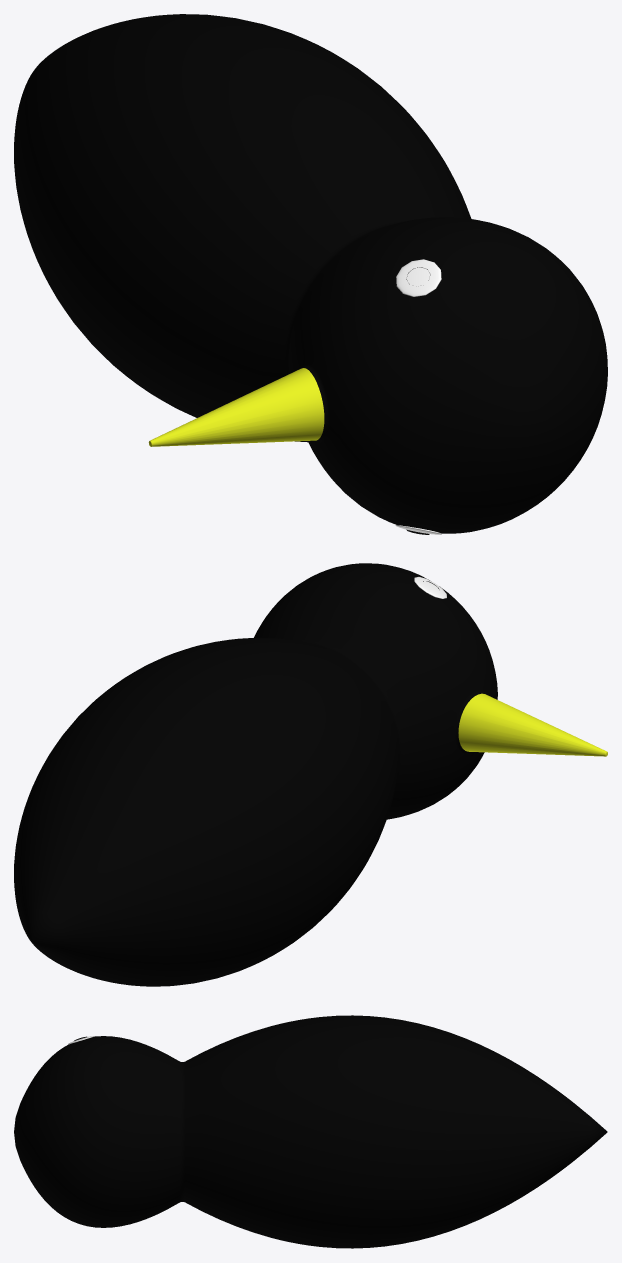
Rendered from specht.obj.
3 views of the same model, one above another, from view 1: azimuth 30°, elevation 25°; view 2: azimuth 150°, elevation 25°; view 3: azimuth 270°, elevation 25° (orthographic). The views are drawn at different scales.
Parts seen in each view (by area): view 1: Mesh.001; view 2: Mesh.001; view 3: Mesh.001.
Part boxes in pixels (x1,y1,x2,y2): Mesh.001: [14, 14, 607, 534]; Mesh.001: [14, 563, 607, 986]; Mesh.001: [14, 1015, 607, 1248].
Bounding box in the file's own units: 1.9 × 1.37 × 3.5.
